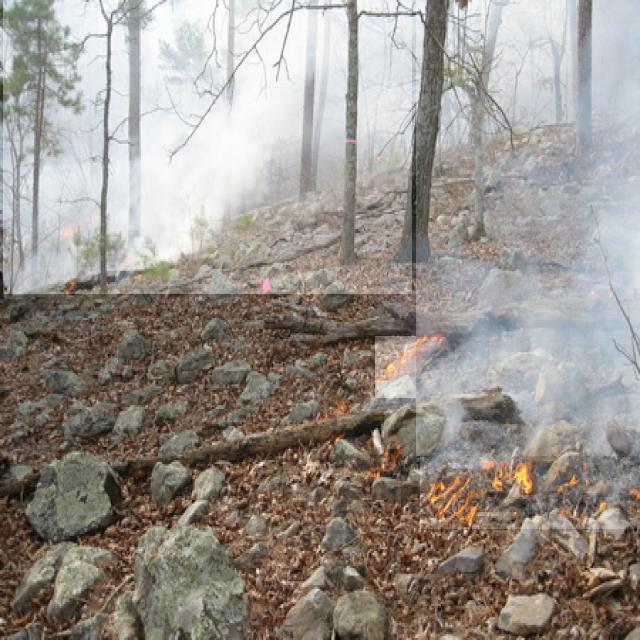Fire: (420, 454, 640, 530), (375, 336, 451, 398)
Smoke: (3, 0, 412, 294), (416, 0, 640, 456)
